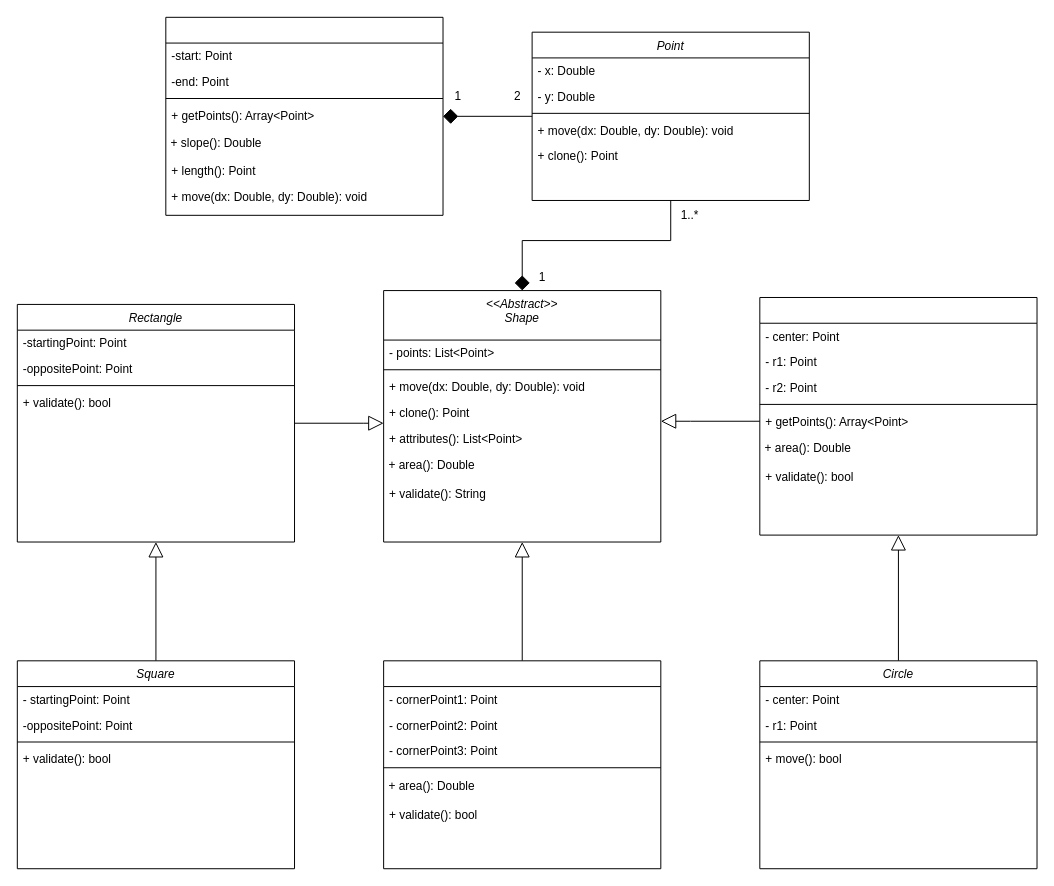
This 1054x886 diagram has some shape labels left out. The box of each missing label's shape, as (x1, y1, x2, y2) in pixels:
Ellipse: (759, 297, 1037, 535)
Line: (165, 16, 443, 215)
Triangle: (383, 660, 661, 869)
